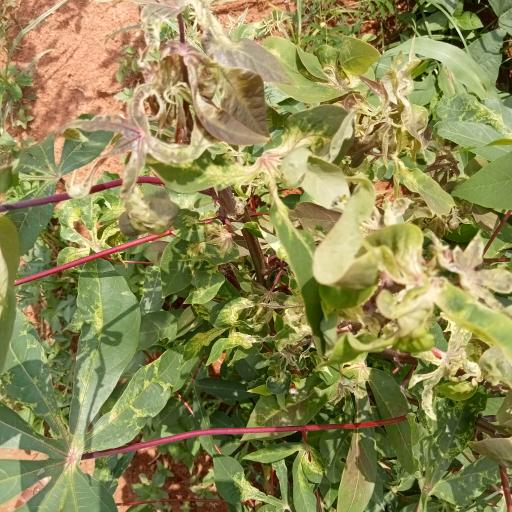Cassava_Healthy: (0, 261, 164, 512)
